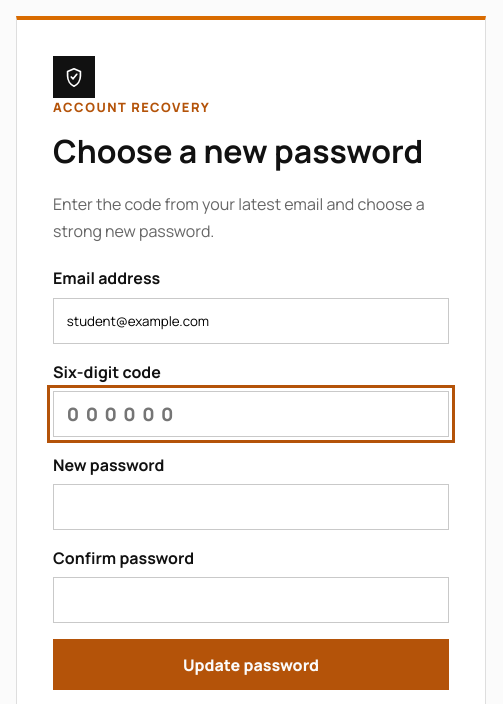
account OTP pages › submits the OTP and new password together
The width and height of the screenshot is (503, 704).
Type "654321" into the field labelled "Six-digit code". click: (251, 414)
box: [53,391,449,437]
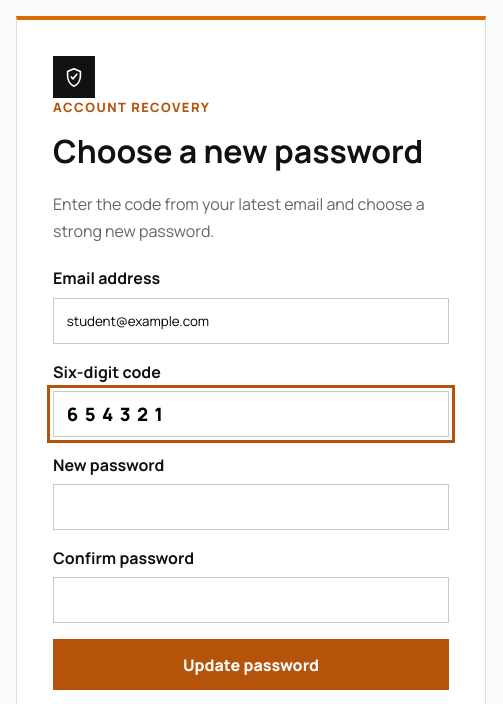
Type "DifferentPass456!" into the password field labelled "New password". click: (251, 507)
box: [53,484,449,530]
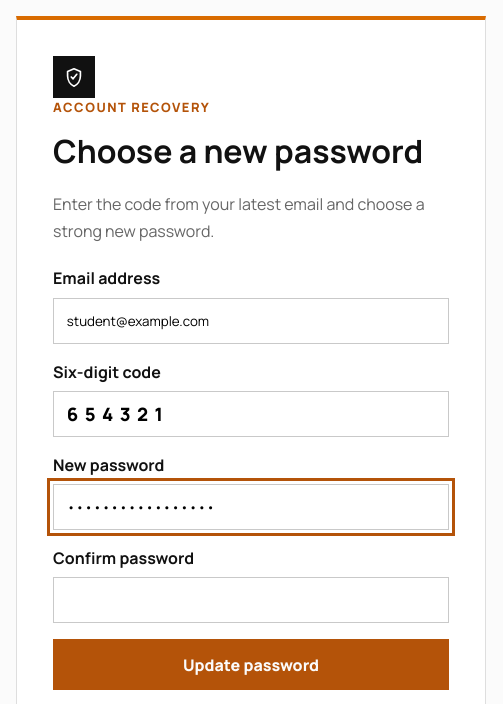
Type "DifferentPass456!" into the password field labelled "Confirm password". click: (251, 600)
box: [53,577,449,623]
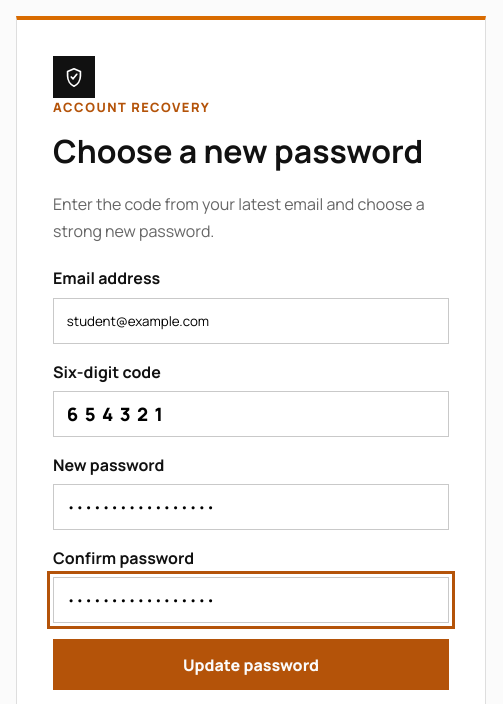
Click the button "Update password". click: (251, 665)
box: [53,639,449,690]
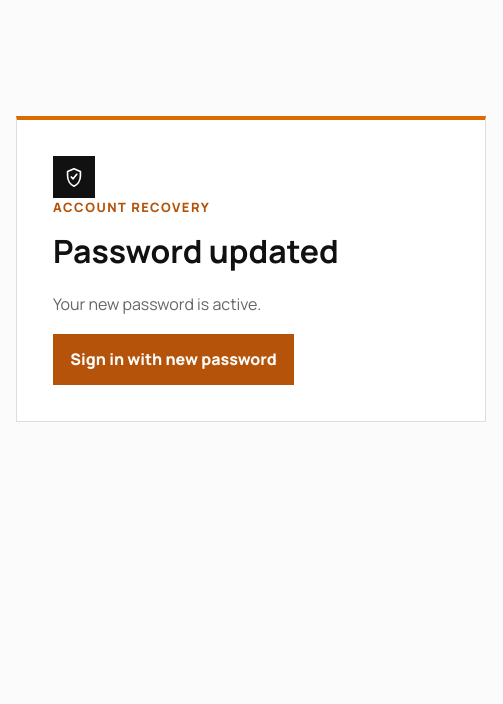
Result: the link "Sign in with new password" is shown at [53,334,294,385]
